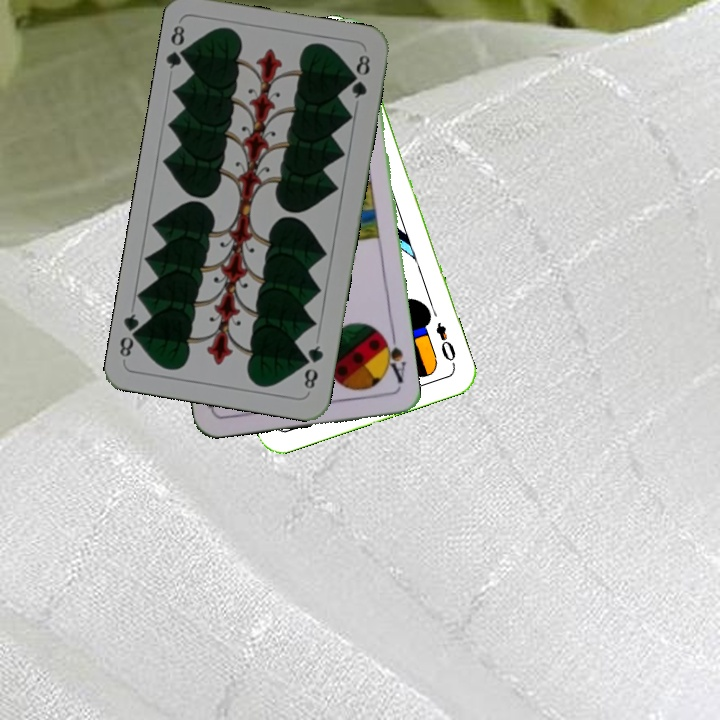EO: (431, 318, 458, 369)
G8: (163, 21, 193, 71), (300, 341, 326, 392)
SA: (377, 329, 408, 385)
